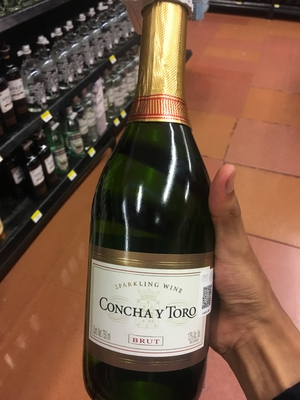brut: (80, 20, 223, 400)
